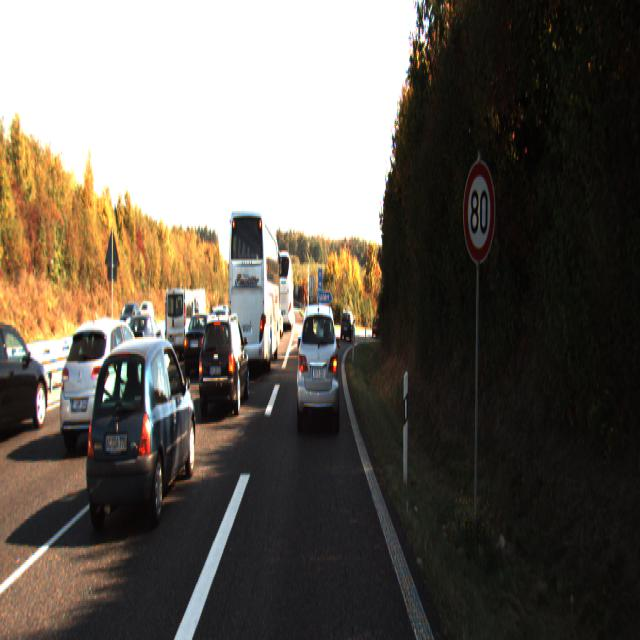Car: (82, 330, 198, 538), (56, 314, 152, 457), (227, 207, 280, 379), (0, 317, 52, 447), (296, 300, 340, 435), (196, 312, 250, 418), (121, 312, 168, 379), (164, 286, 199, 357), (276, 254, 294, 334), (340, 312, 356, 343)
